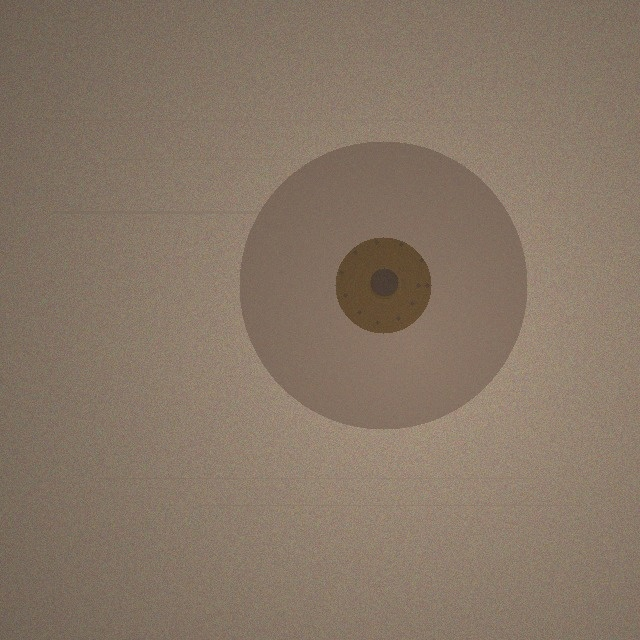cold_weld: (239, 141, 527, 429)
